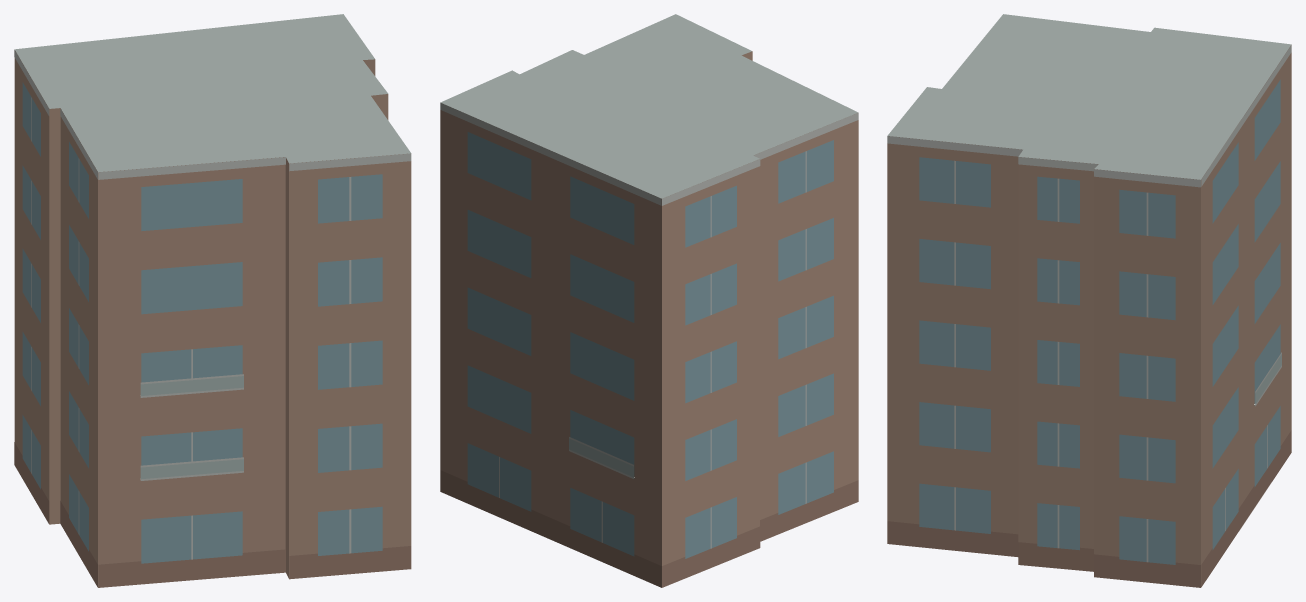
The model's file is survey-upis-32983589.glb.
3 renders of one model, left to right at view 1: azimuth 30°, elevation 25°; view 2: azimuth 150°, elevation 25°; view 3: azimuth 270°, elevation 25°, orthographic. The views are drawn at different scales.
Parts seen in each view (by area): view 1: survey-upis-32983589.tmp; view 2: survey-upis-32983589.tmp; view 3: survey-upis-32983589.tmp.
Part boxes in pixels (x1,y1,x2,y2): survey-upis-32983589.tmp: (14,14,411,587); survey-upis-32983589.tmp: (440,14,858,587); survey-upis-32983589.tmp: (887,14,1291,587).
Size of the model in its own units: 11.43 by 13.1 by 11.77.
